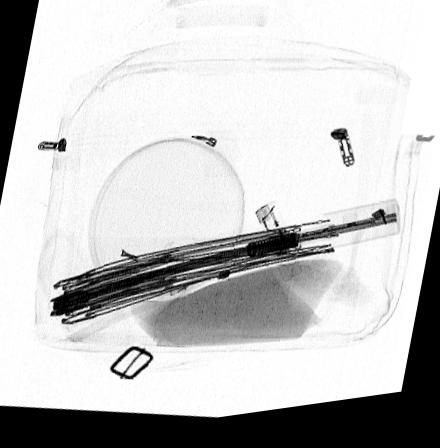Lighter: (254, 208, 302, 291)
